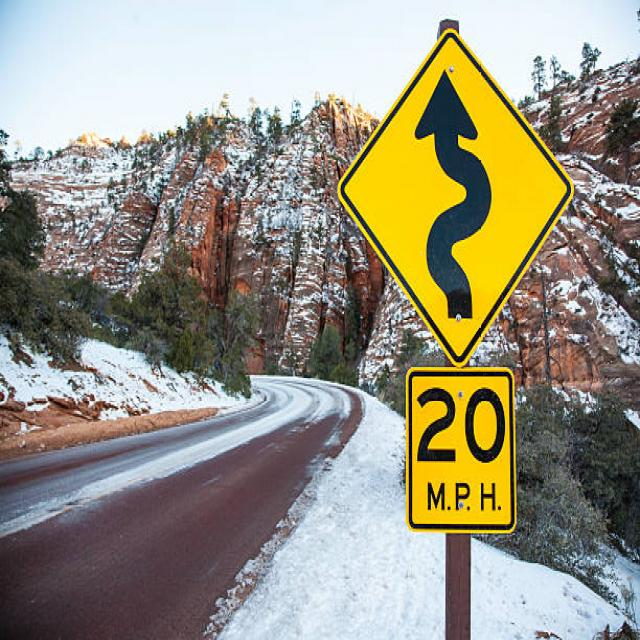left_sharp_curve: (333, 27, 575, 367)
